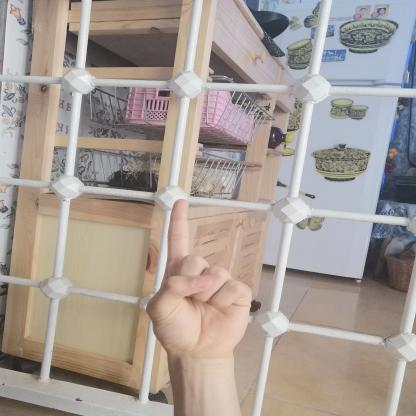BAA: (135, 192, 262, 368)
